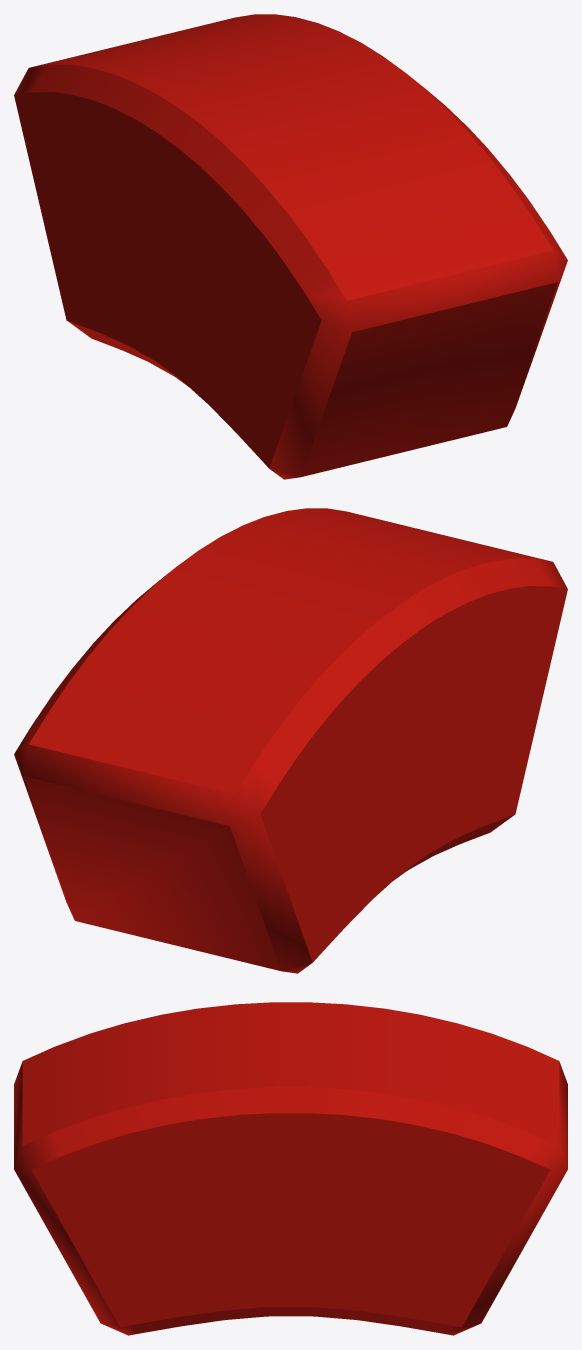
Rendered from brake_caliper.glb.
3 views of the same model, one above another, from view 1: azimuth 30°, elevation 25°; view 2: azimuth 150°, elevation 25°; view 3: azimuth 270°, elevation 25° (orthographic). The views are drawn at different scales.
Parts seen in each view (by area): view 1: Caliper; view 2: Caliper; view 3: Caliper.
Boxes of the visible parts, bbox=[...] form: Caliper: bbox=[14, 14, 567, 479]; Caliper: bbox=[14, 508, 567, 973]; Caliper: bbox=[14, 1002, 567, 1335].
Bounding box in the file's own units: 0.074 × 0.0845 × 0.1709.
